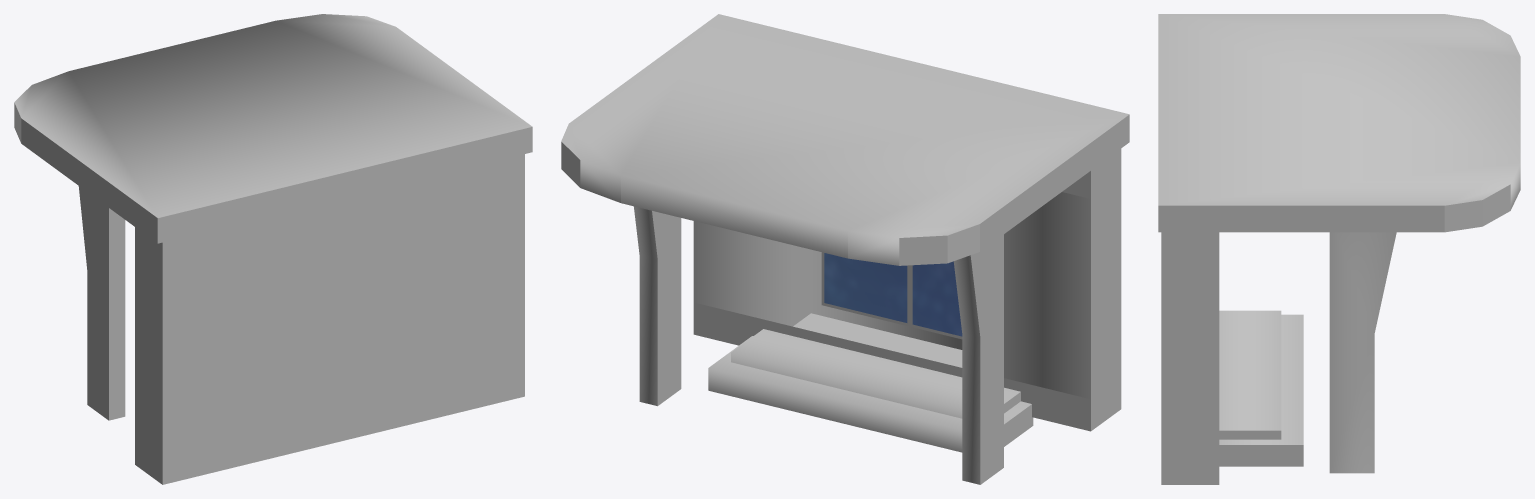
Rendered from hirise_top01b.fbx.
3 views of the same model, side by side, from view 1: azimuth 30°, elevation 25°; view 2: azimuth 150°, elevation 25°; view 3: azimuth 270°, elevation 25° (orthographic). The views are drawn at different scales.
Parts seen in each view (by area): view 1: hirise_top01b; view 2: hirise_top01b; view 3: hirise_top01b.
Part boxes in pixels (box(x1,y1,x2,y2)): hirise_top01b: box(14, 14, 532, 484); hirise_top01b: box(561, 14, 1129, 484); hirise_top01b: box(1158, 14, 1520, 484).
Size of the model in its own units: 5.69 by 4.03 by 4.54.
